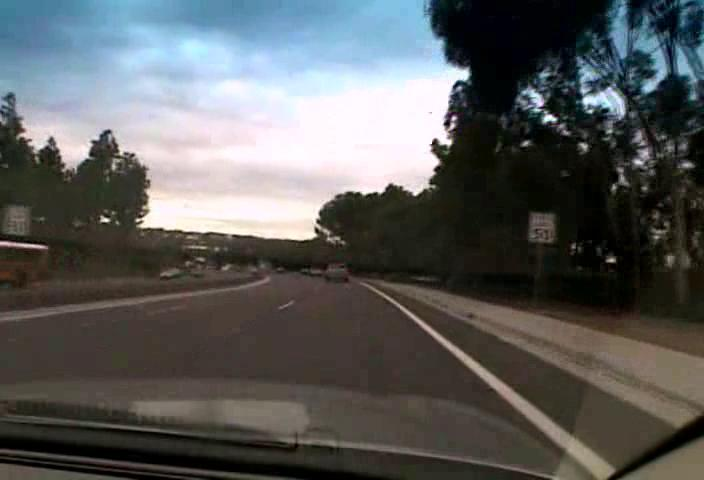speedLimit50: (526, 211, 556, 244)
